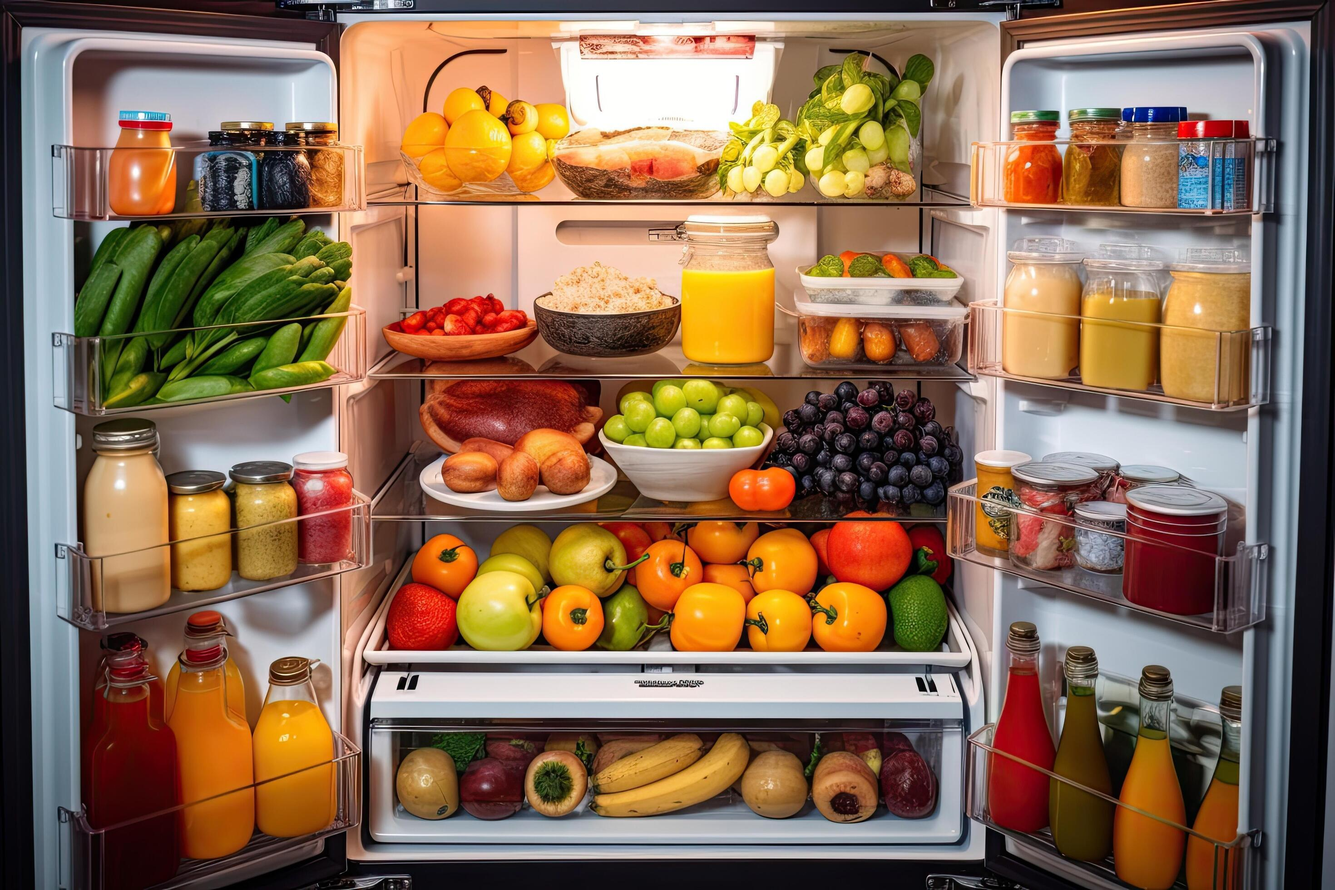banana: (577, 733, 783, 797)
grapes: (783, 380, 984, 544)
